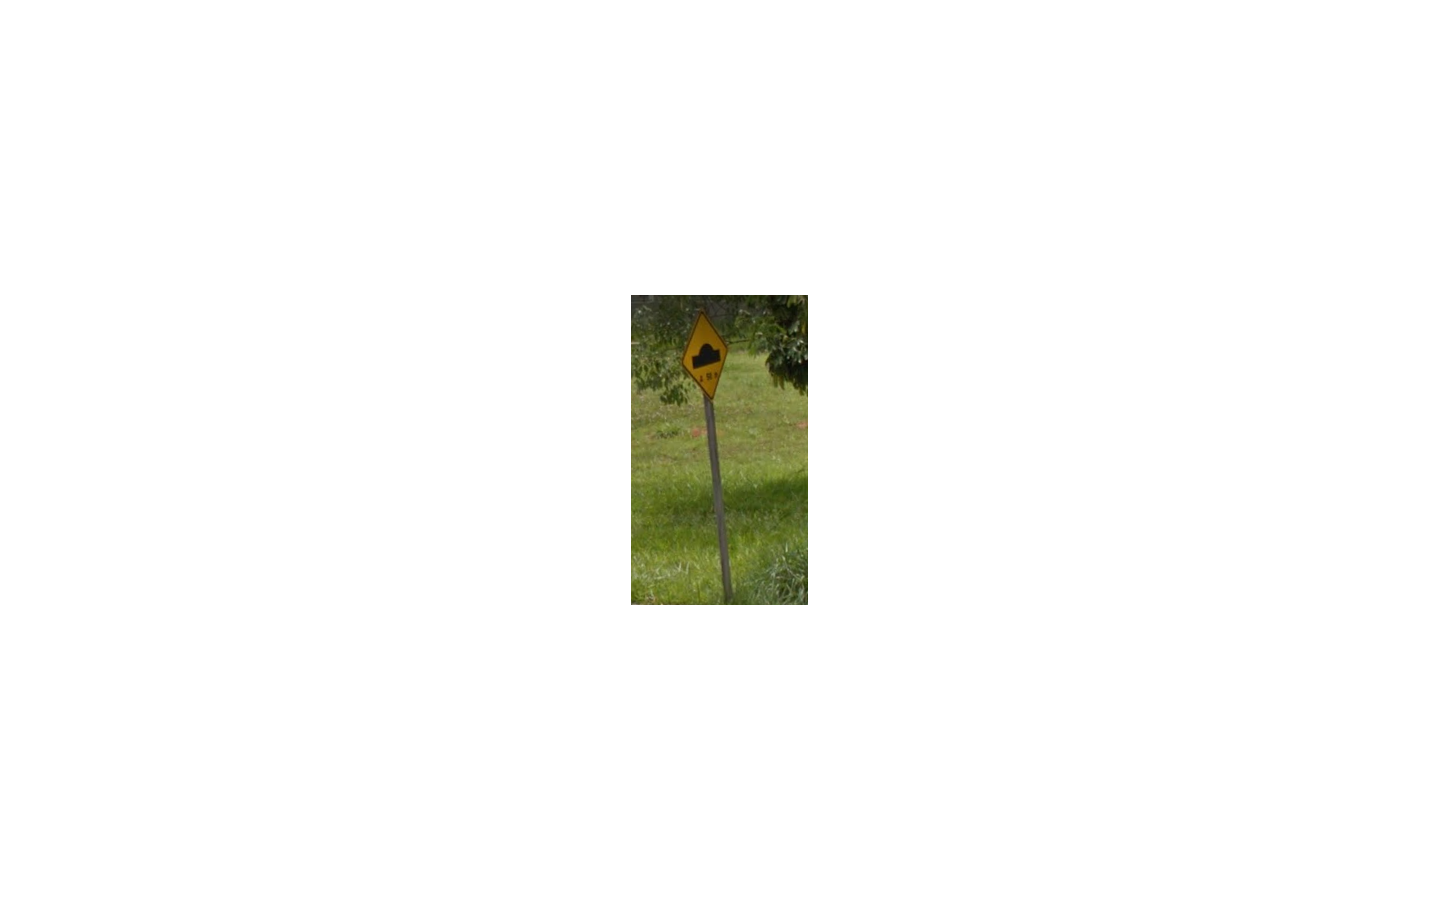l50m: (681, 311, 729, 402)
